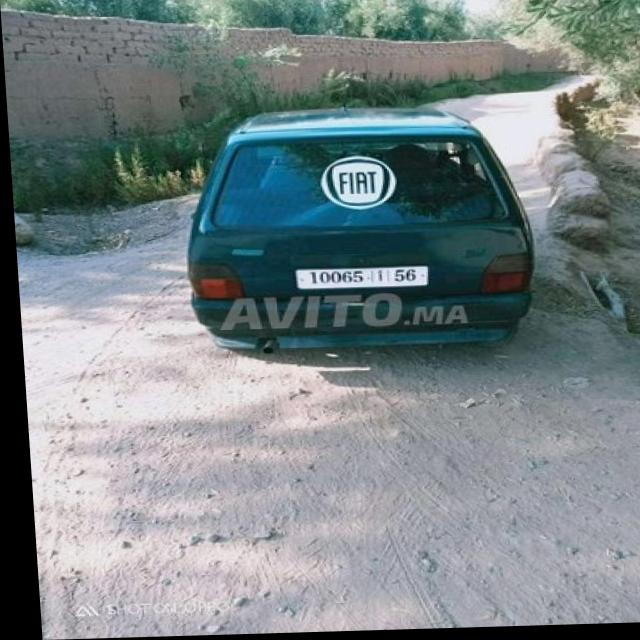License-Plate: (291, 268, 422, 291)
